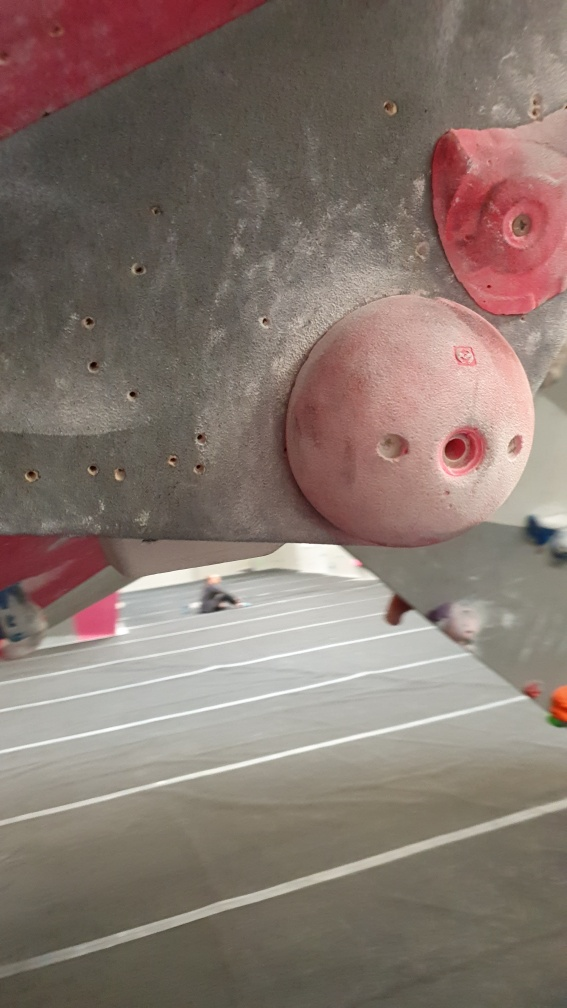Sloper: (285, 290, 535, 552)
